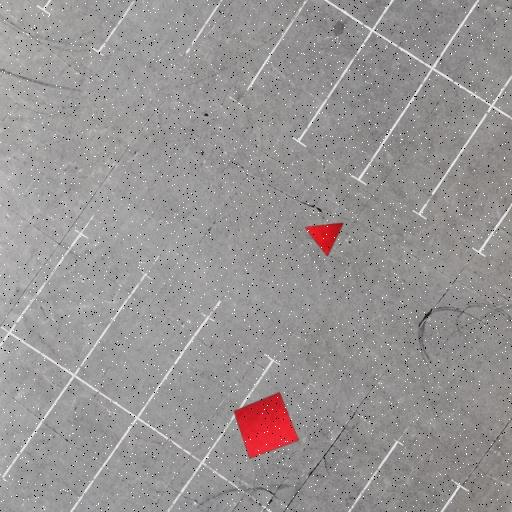RED_SQUARE: (234, 391, 299, 459)
